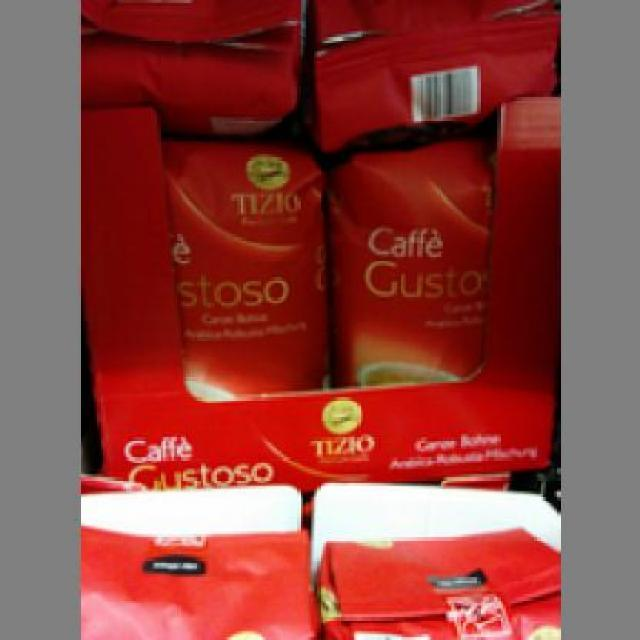Coffee: (160, 128, 329, 394), (323, 137, 491, 386)
